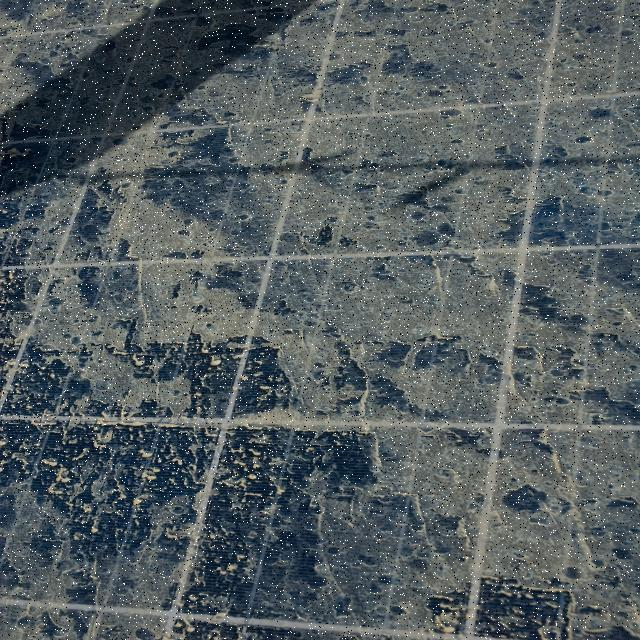dusty: (2, 0, 615, 634)
